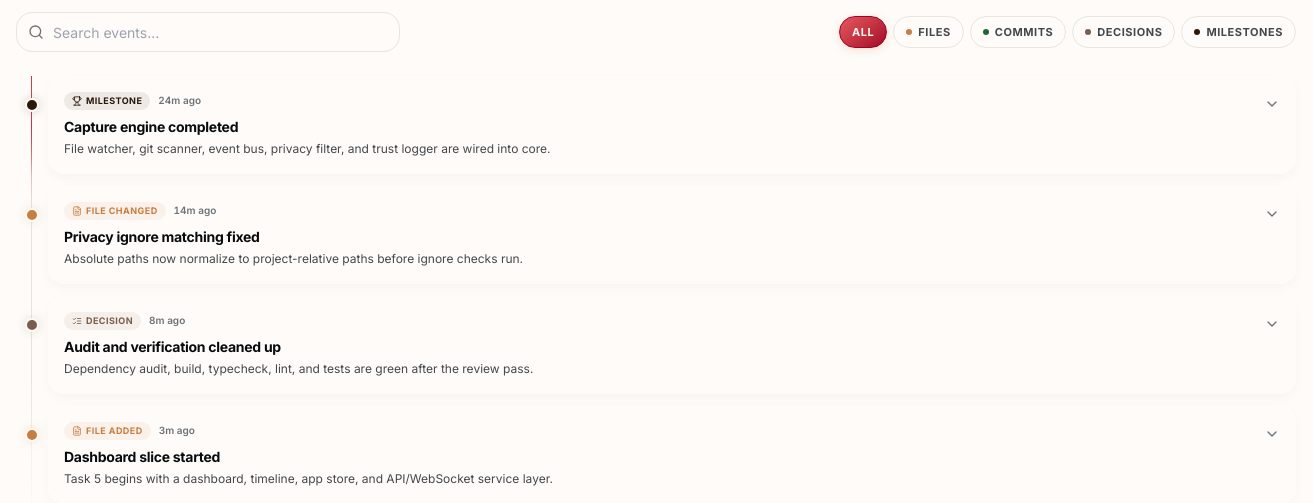
Test: Timeline › filters, searches, and selects timeline events
Click the button "Decisions".
click(1124, 32)  # box [1072,16,1176,48]
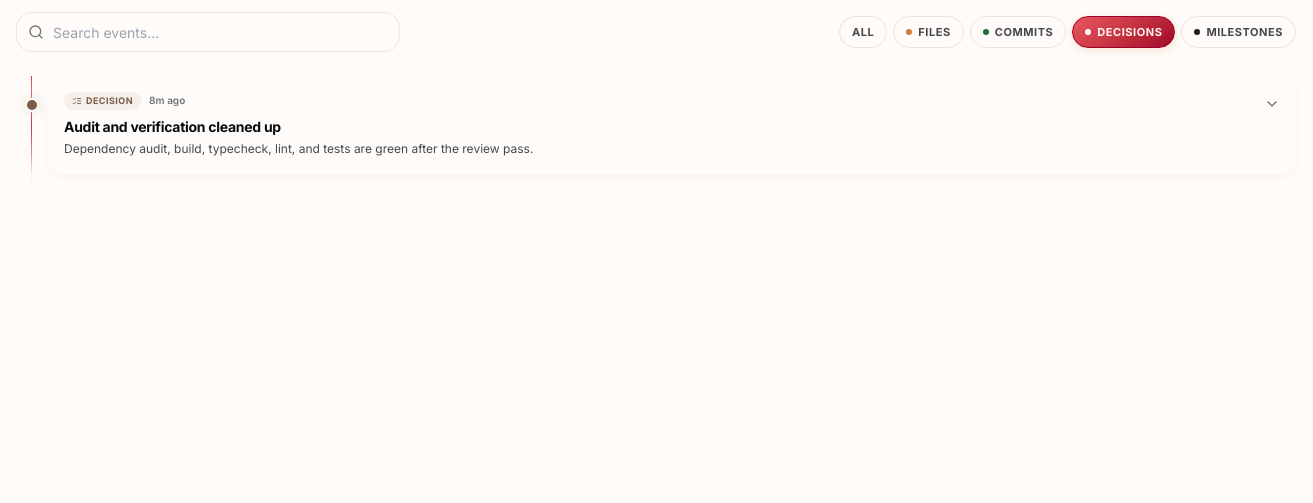
expect the heading "Audit and verification cleaned up" is shown: met, box [64,118,281,134]
Type "dashboard" into the field named "search timeline".
click(208, 32); type("dashboard")  # box [16,12,400,52]
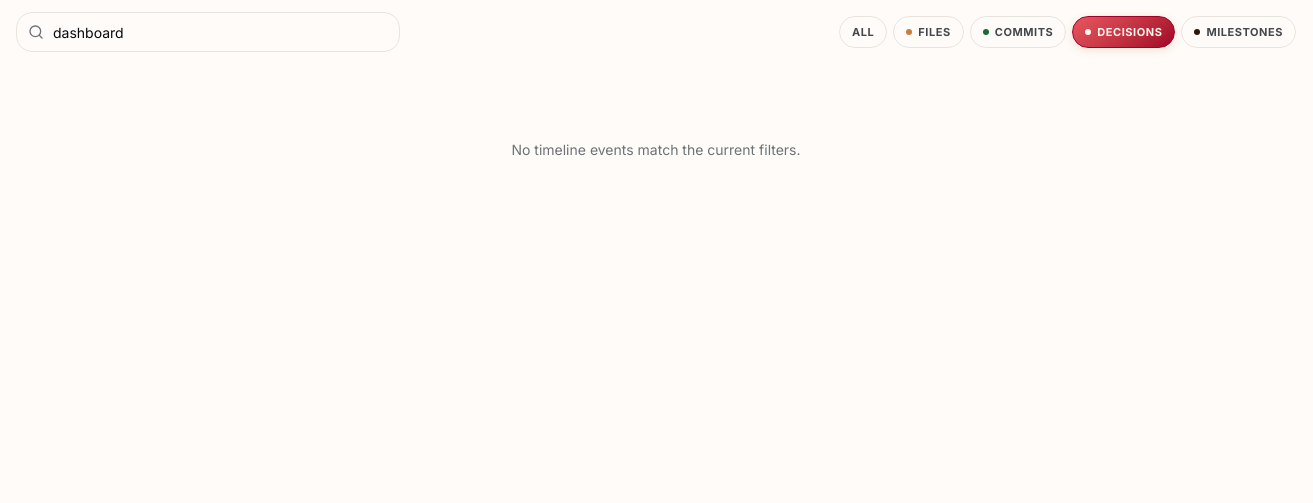
Click the button "All".
click(863, 32)  # box [839,16,887,48]
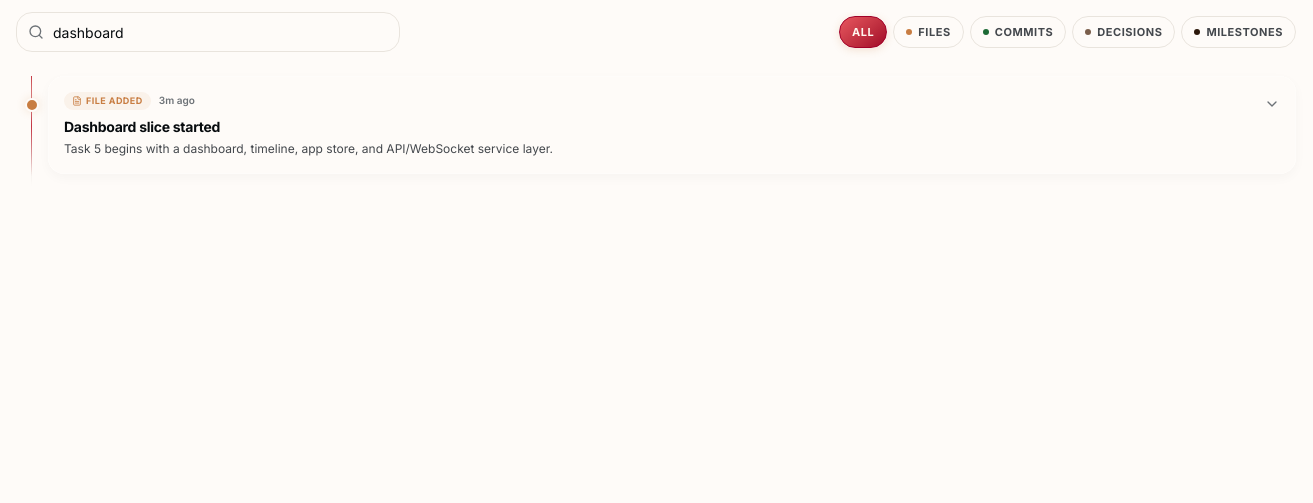
expect the heading "Dashboard slice started" is shown: met
Click the heading "Dashboard slice started".
click(142, 126)  # box [64,118,220,134]
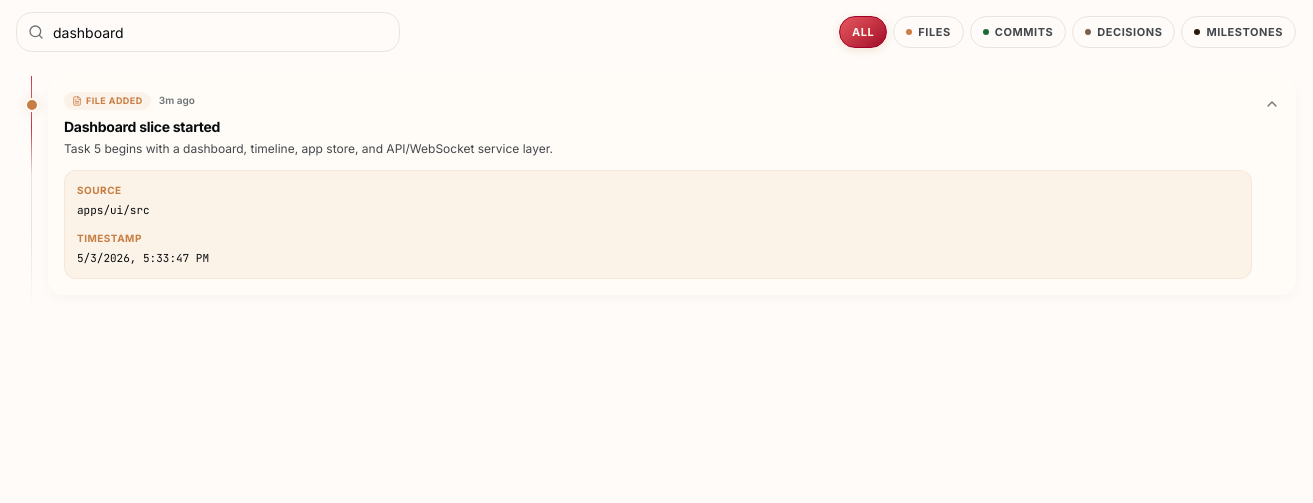
expect the text "apps/ui/src" is shown: met, box [77,203,150,217]
